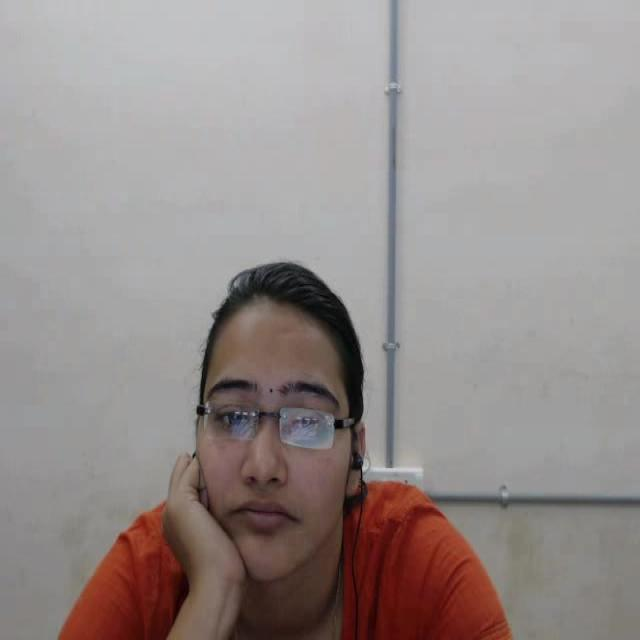Bored: (140, 237, 419, 640)
